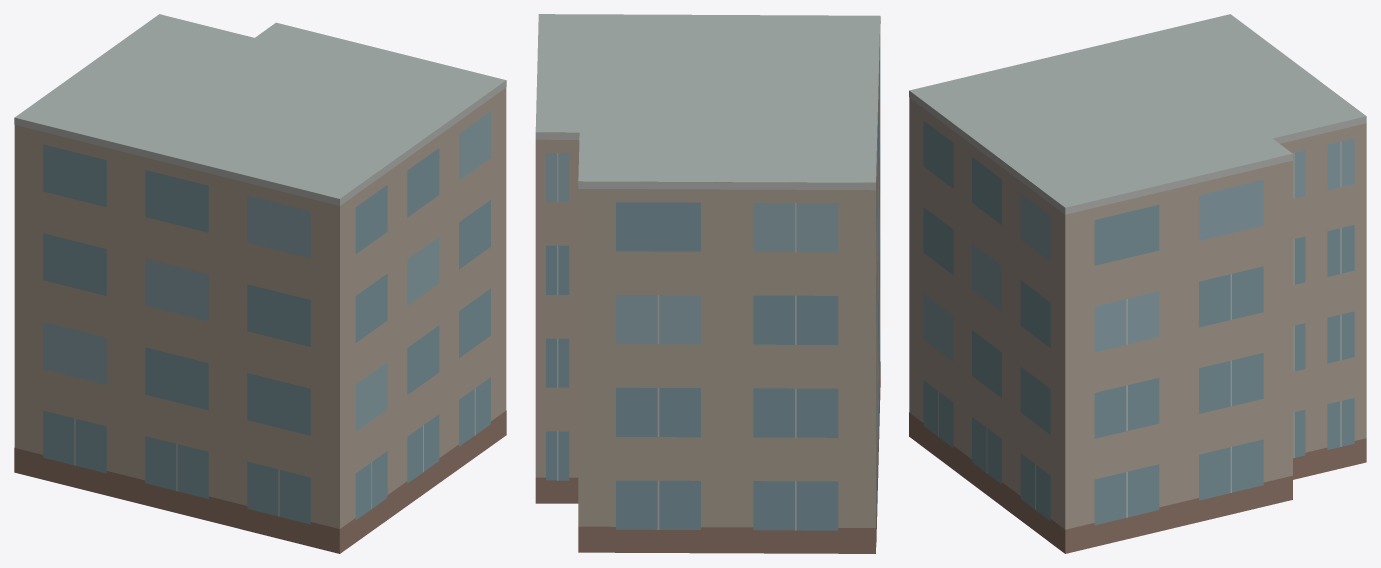
File: residential-c27f25a8-9fbd-471f-8645-694e2d39415d.glb
3 renders of one model, left to right at view 1: azimuth 30°, elevation 25°; view 2: azimuth 150°, elevation 25°; view 3: azimuth 270°, elevation 25°, orthographic. The views are drawn at different scales.
Parts seen in each view (by area): view 1: residential-c27f25a8-9fbd-471f-8645-694e2d39415d.tmp; view 2: residential-c27f25a8-9fbd-471f-8645-694e2d39415d.tmp; view 3: residential-c27f25a8-9fbd-471f-8645-694e2d39415d.tmp.
Part boxes in pixels (x1=…): residential-c27f25a8-9fbd-471f-8645-694e2d39415d.tmp: x1=14, y1=14, x2=506, y2=553; residential-c27f25a8-9fbd-471f-8645-694e2d39415d.tmp: x1=535, y1=14, x2=880, y2=553; residential-c27f25a8-9fbd-471f-8645-694e2d39415d.tmp: x1=909, y1=14, x2=1366, y2=553.
Size of the model in its own units: 14.66 by 12.2 by 14.63.
